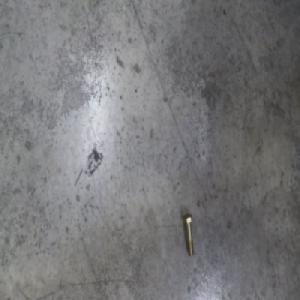Bolt: (181, 212, 193, 258)
